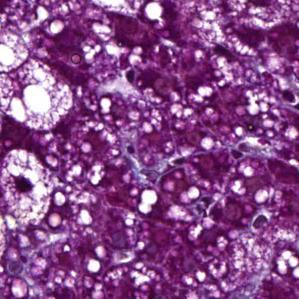ballooning: (4, 58, 75, 136), (1, 148, 54, 226)
